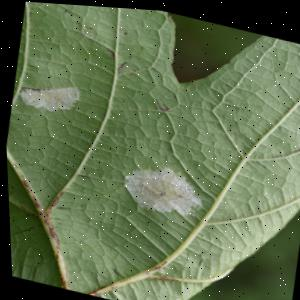Folha: (0, 0, 300, 300)
Fungo: (117, 156, 206, 220), (15, 74, 80, 117), (79, 23, 97, 39), (151, 97, 170, 111), (114, 58, 127, 74), (104, 47, 114, 57), (63, 7, 74, 16), (108, 266, 117, 275)
